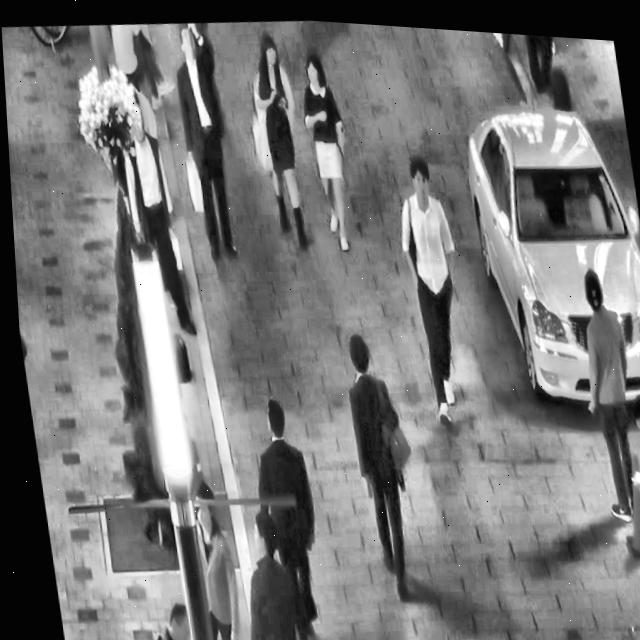light_vehicle: (447, 70, 640, 418)
